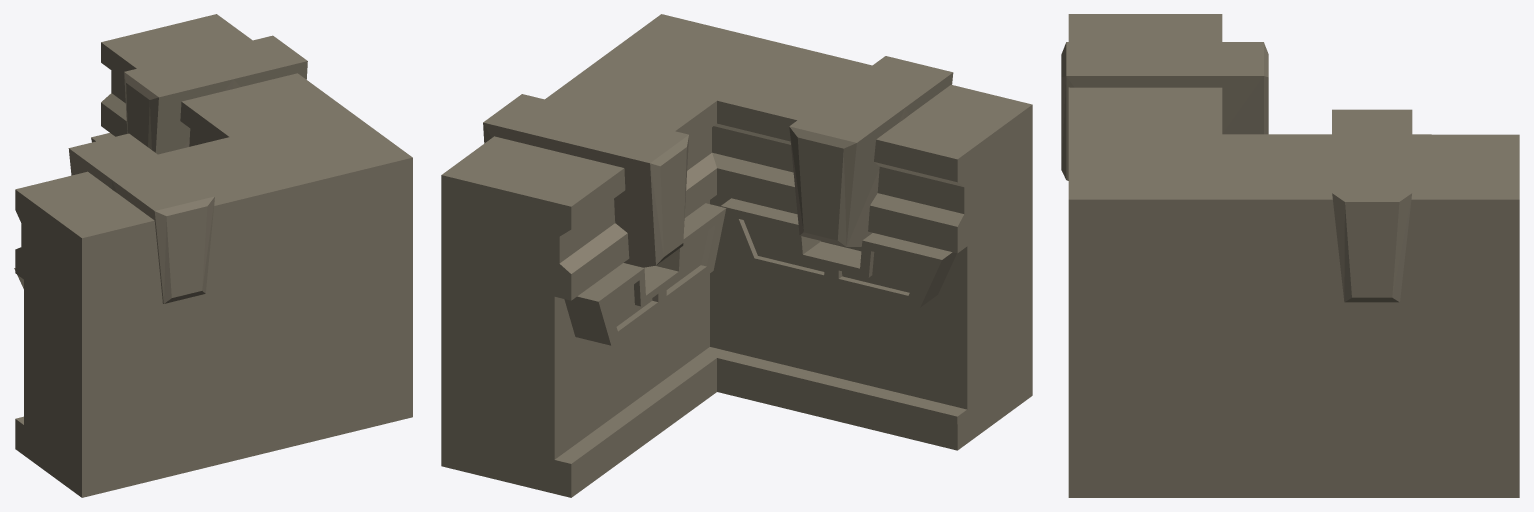
Rendered from TempleFrameB_C.fbx.
3 renders of one model, left to right at view 1: azimuth 30°, elevation 25°; view 2: azimuth 150°, elevation 25°; view 3: azimuth 270°, elevation 25°, orthographic. The views are drawn at different scales.
Visible parts, largest first — view 1: TempleFrameB_C01, TempleFrameB_A02; view 2: TempleFrameB_C01, TempleFrameB_A02; view 3: TempleFrameB_C01, TempleFrameB_A02.
Part boxes in pixels (box(x1,y1,x2,y2)): TempleFrameB_C01: box(15, 14, 412, 497); TempleFrameB_A02: box(14, 35, 307, 303); TempleFrameB_C01: box(441, 14, 1032, 497); TempleFrameB_A02: box(483, 56, 956, 345); TempleFrameB_C01: box(1068, 14, 1519, 497); TempleFrameB_A02: box(1061, 42, 1412, 302).
Bounding box in the file's own units: 416 × 312 × 417.
